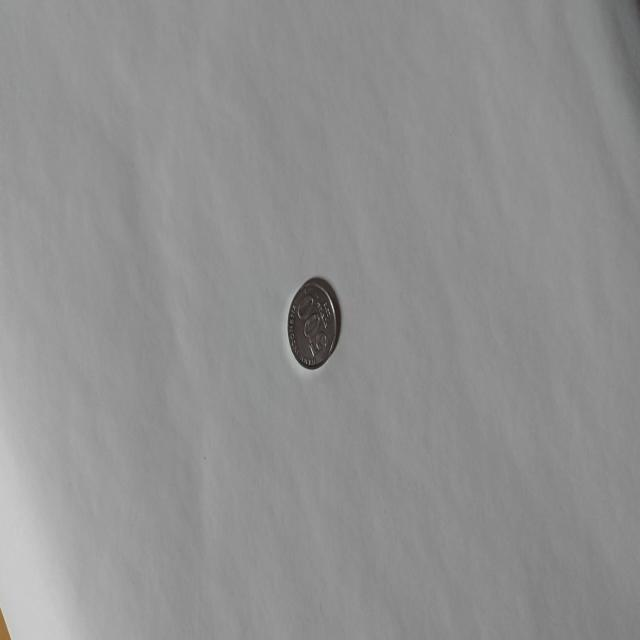lima ratus rupiah: (286, 276, 338, 370)
